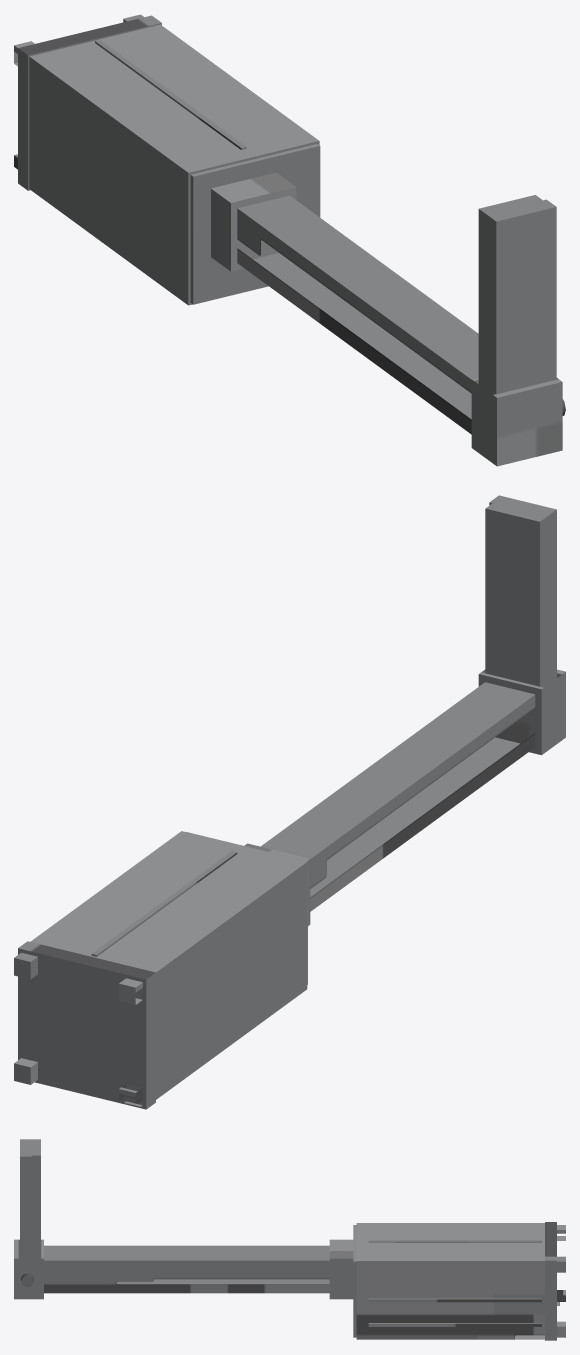
The picture shows the model from 3 angles, top to bottom: view 1: azimuth 30°, elevation 25°; view 2: azimuth 150°, elevation 25°; view 3: azimuth 270°, elevation 25°; orthographic projection. The views are drawn at different scales.
Size of the model in its own units: 0.307 by 0.628 by 1.85.
